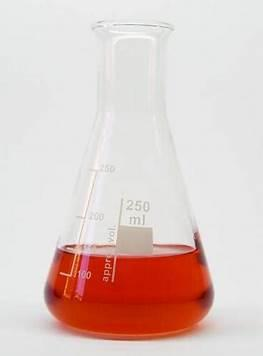Titrarion: (39, 10, 216, 335)
